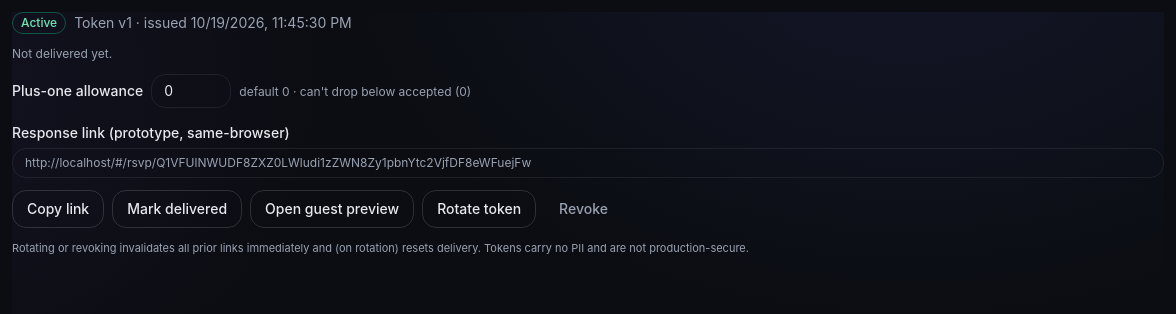
Test: clipboard / delivery honesty (finding #1) › does NOT show Copied or mark delivered when the clipboard write fails
The width and height of the screenshot is (1176, 314).
Click the button "Copy link" at (58, 209), box top-left (12, 190), bottom-right (104, 228)
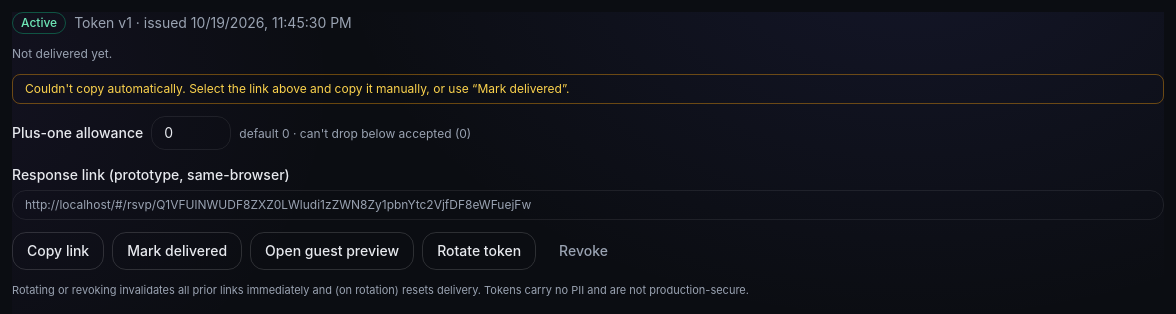
Expected: the message shows "Couldn't copy", top-left (25, 81), bottom-right (570, 96)
